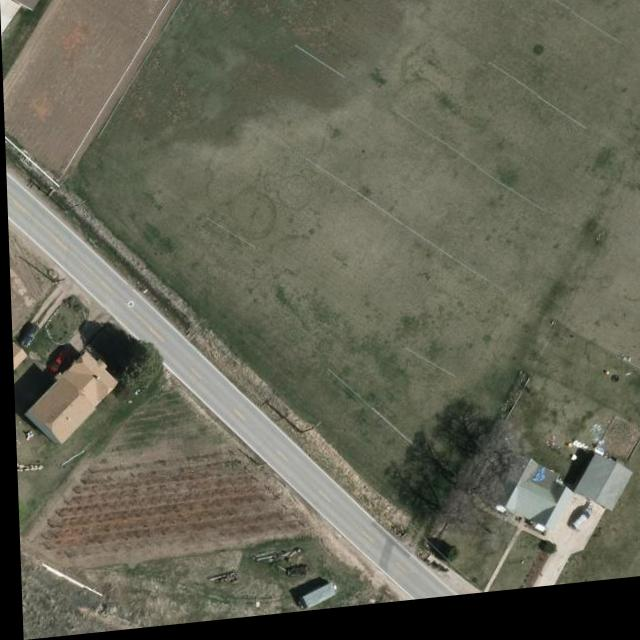vehicle: (44, 349, 73, 375), (566, 517, 589, 547), (14, 322, 39, 348)
